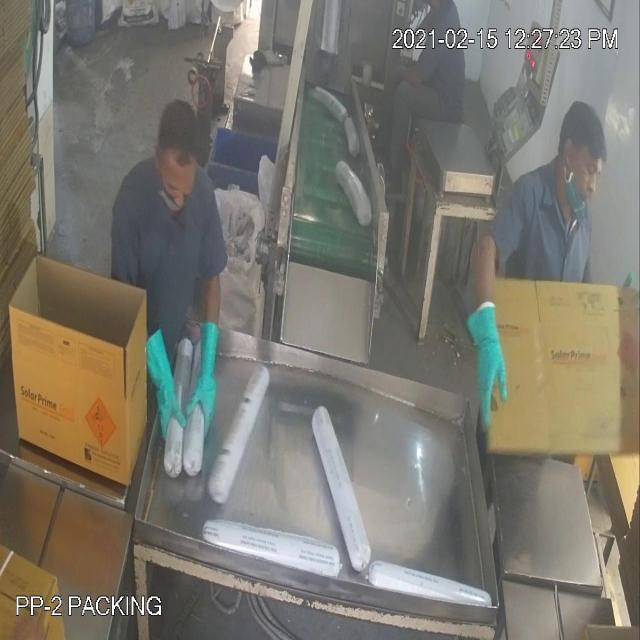gloves: (134, 309, 188, 456), (182, 306, 230, 468), (464, 287, 514, 430)
